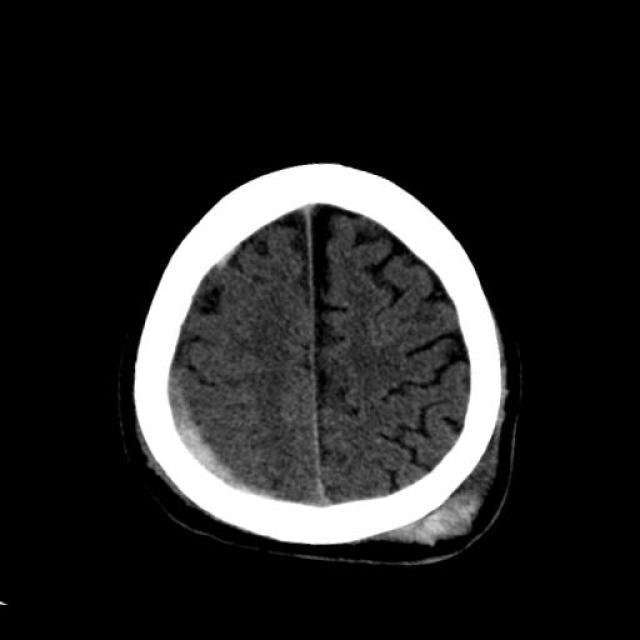Subdural: (142, 382, 279, 522)
